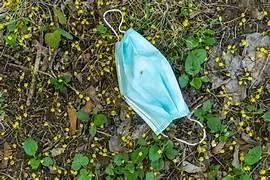Mask: (115, 28, 189, 134)
